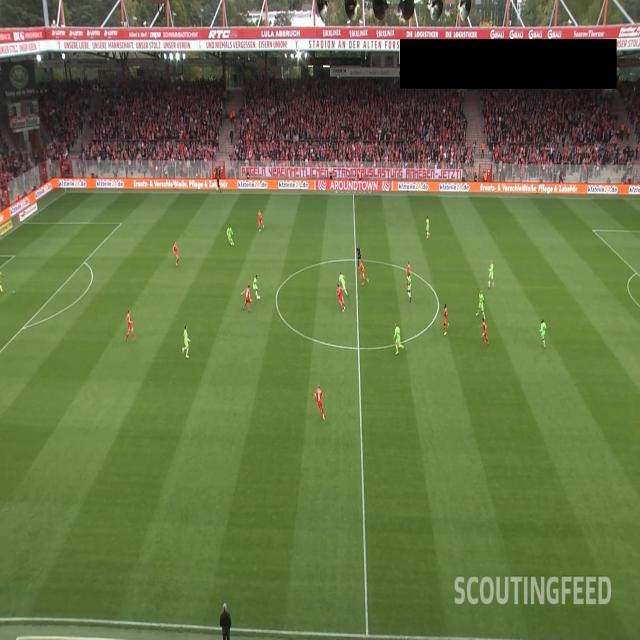ball: (257, 294, 261, 300)
